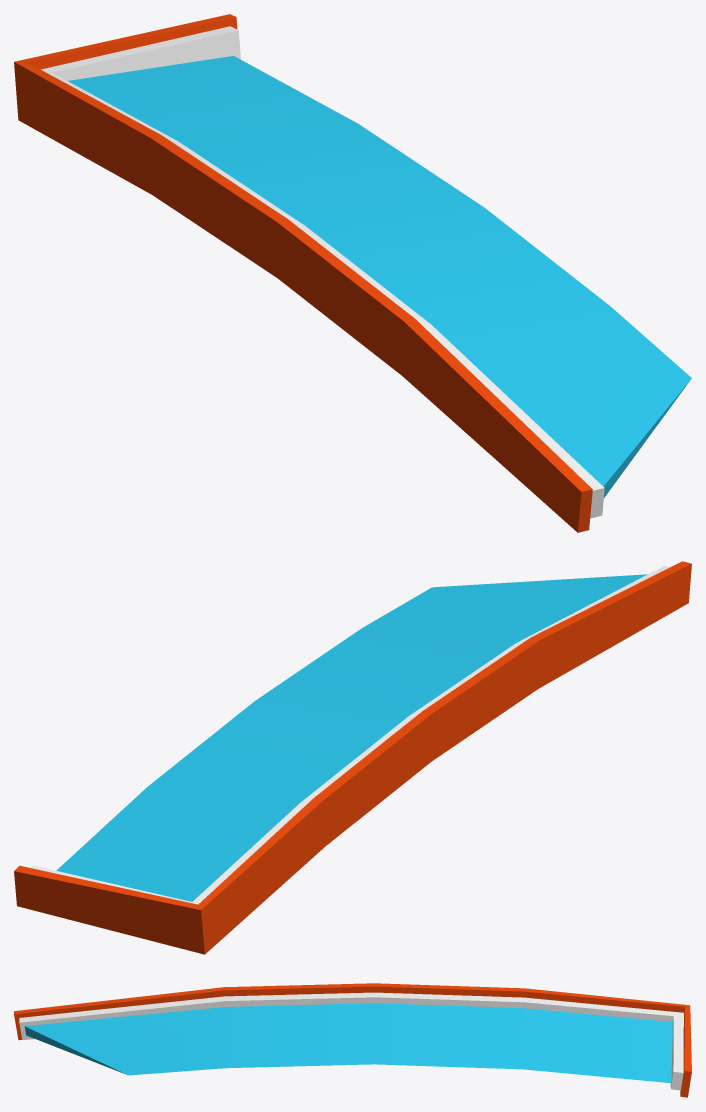
Rendered from Turret_Slicer_Blade.FBX.
The picture shows the model from 3 angles, top to bottom: view 1: azimuth 30°, elevation 25°; view 2: azimuth 150°, elevation 25°; view 3: azimuth 270°, elevation 25°; orthographic projection. The views are drawn at different scales.
Parts seen in each view (by area): view 1: turret_Slicer_Blade; view 2: turret_Slicer_Blade; view 3: turret_Slicer_Blade.
Boxes of the visible parts, bbox=[...] form: turret_Slicer_Blade: bbox=[14, 14, 691, 532]; turret_Slicer_Blade: bbox=[14, 561, 691, 954]; turret_Slicer_Blade: bbox=[14, 983, 691, 1097].
Bounding box in the file's own units: 2.64 × 1.03 × 11.83.
